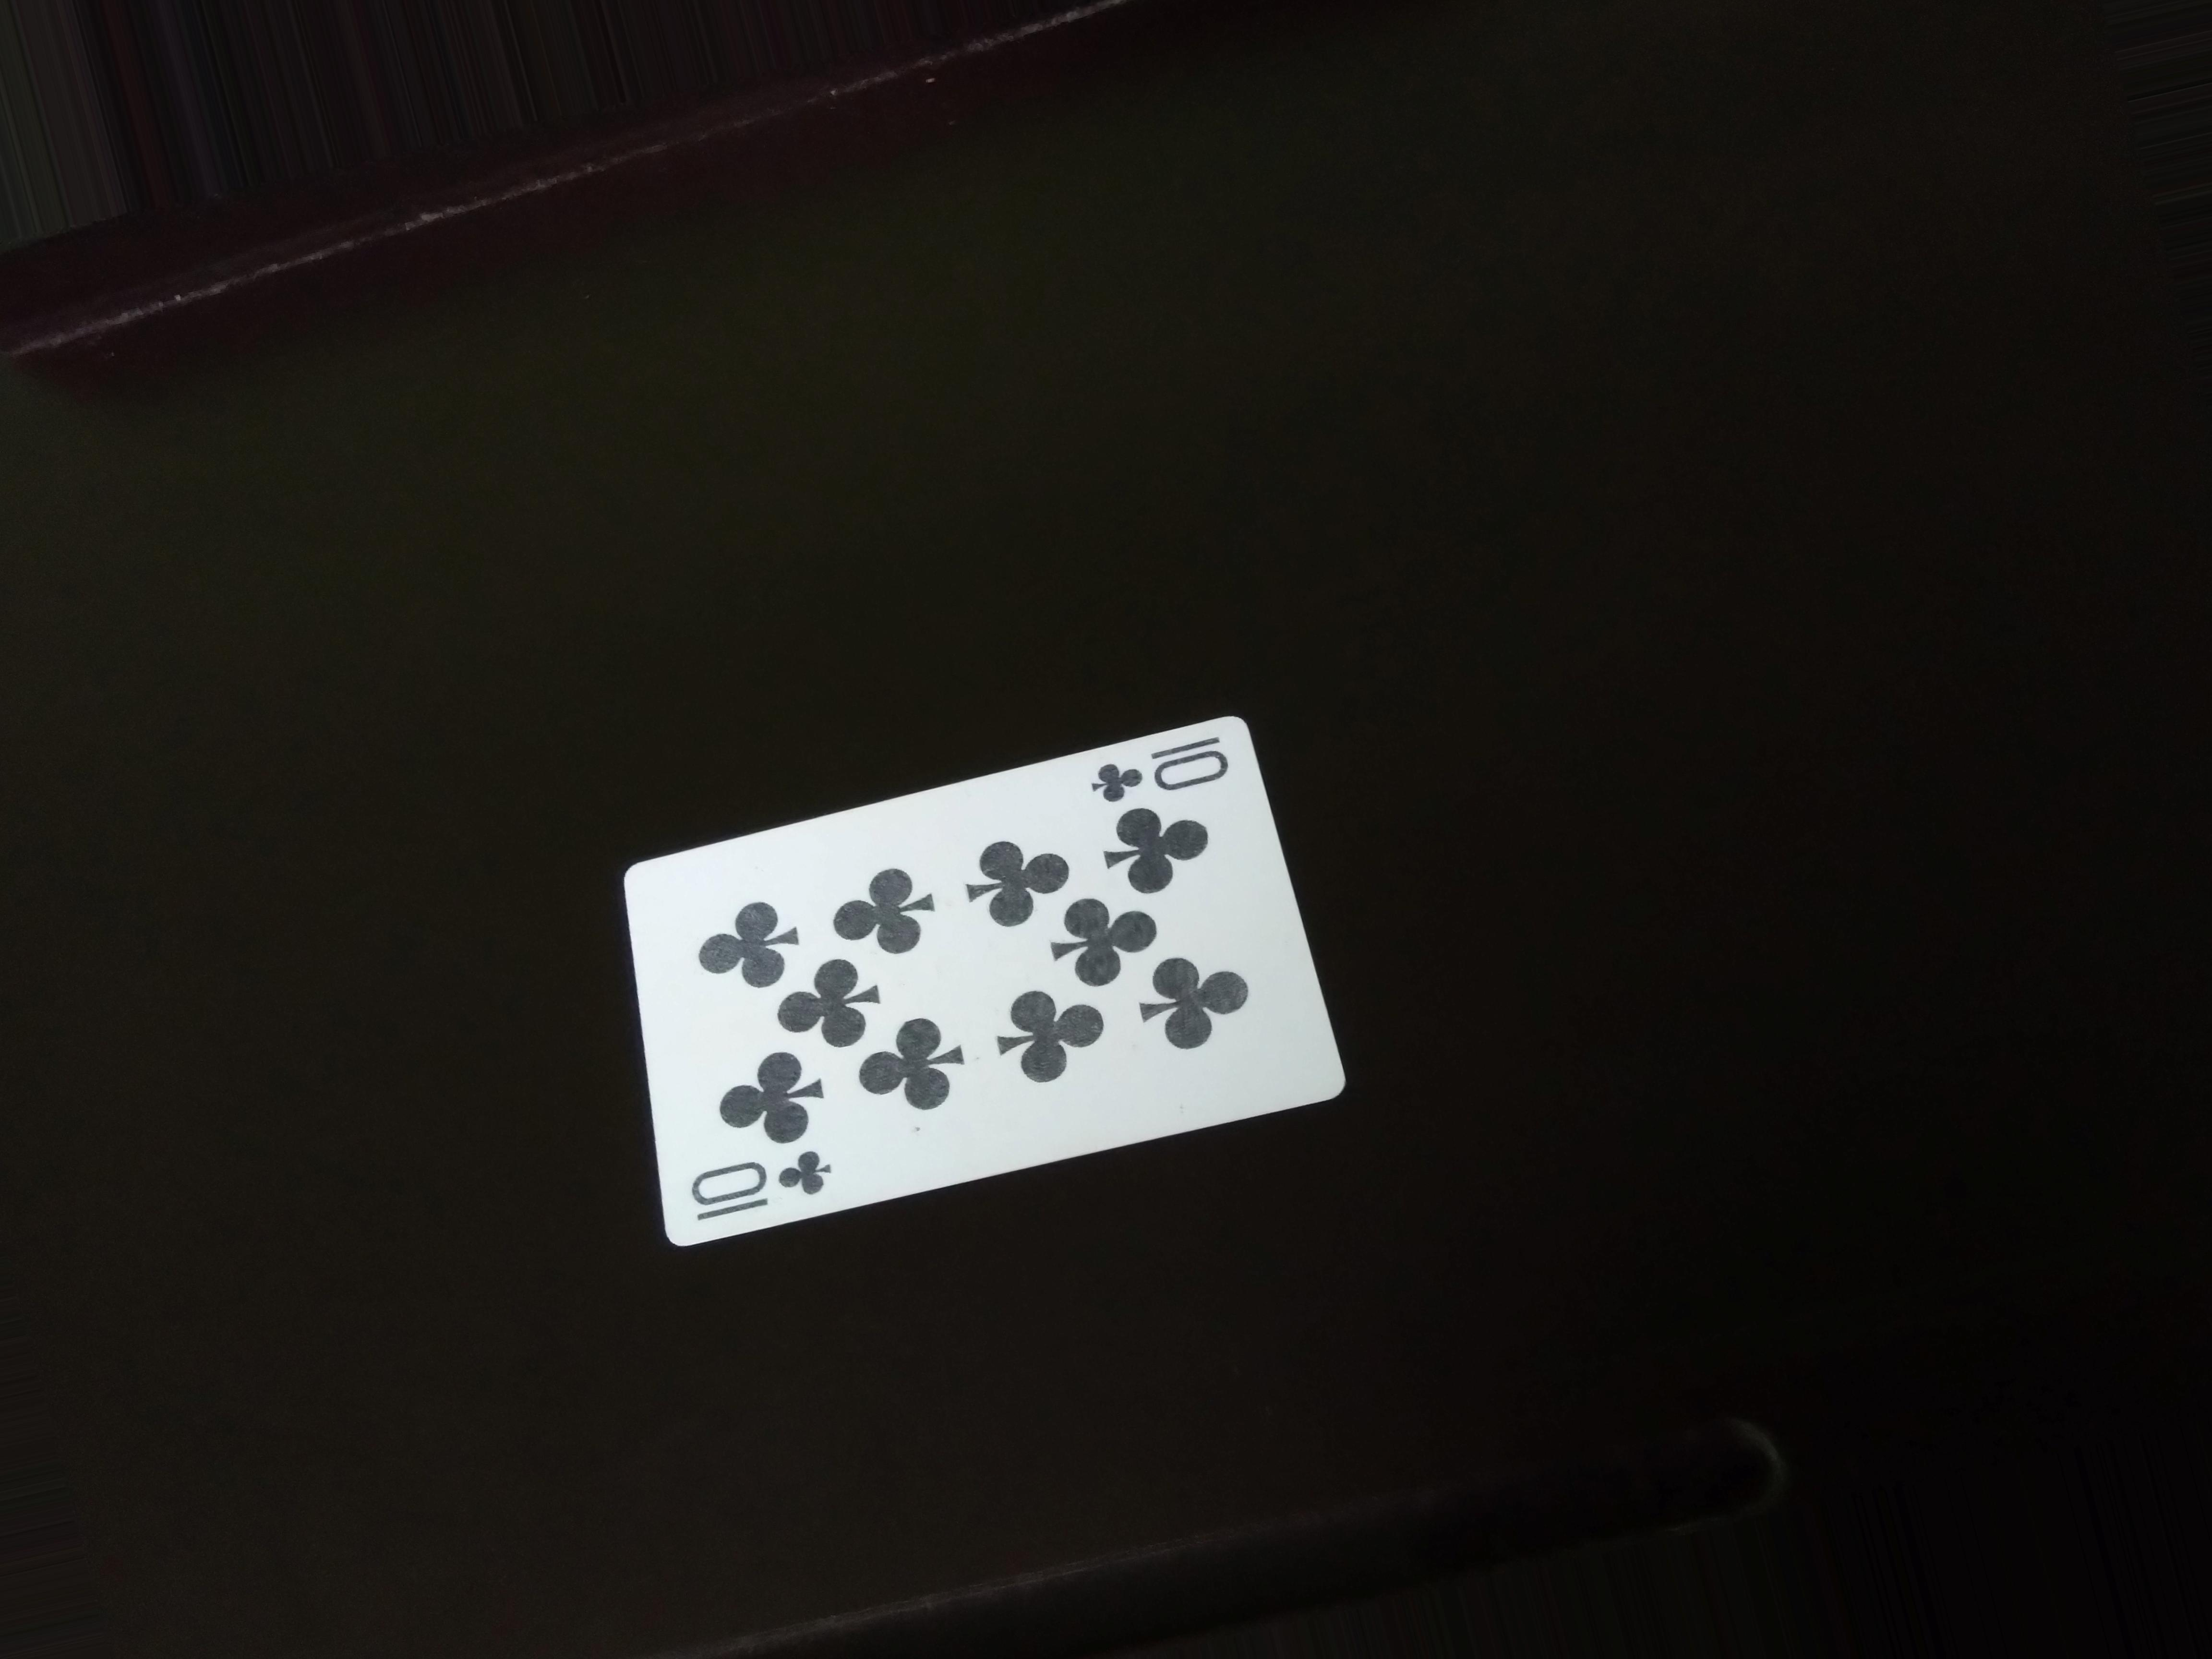10C: (1076, 728, 1233, 809)
